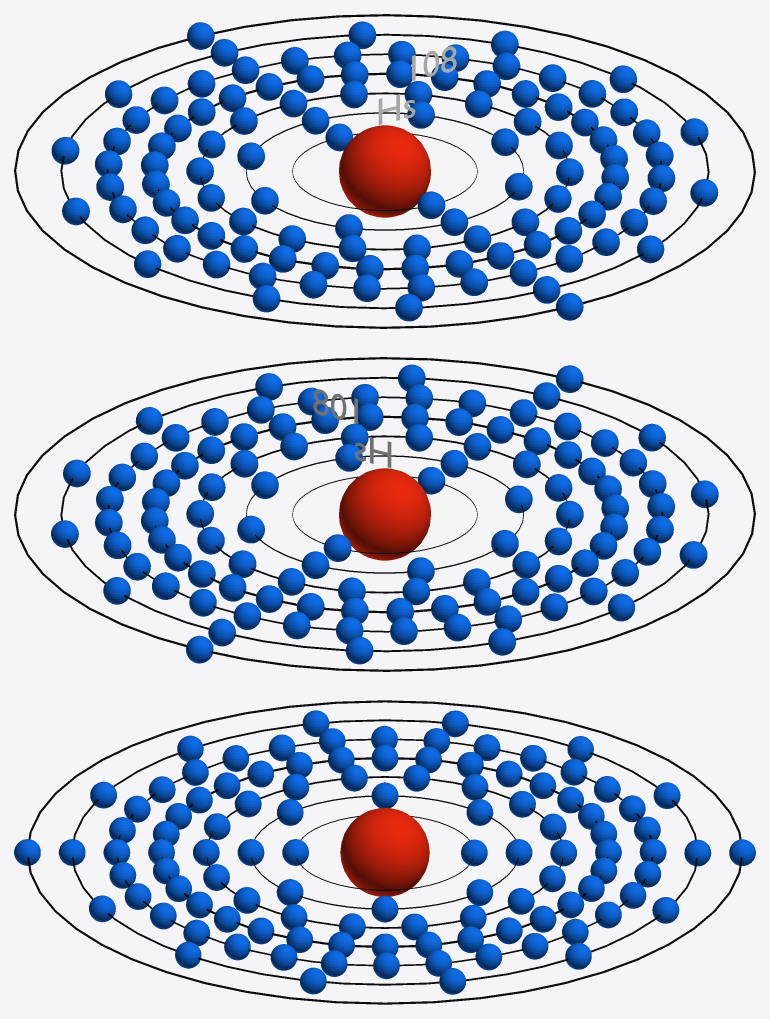
The picture shows the model from 3 angles, top to bottom: view 1: azimuth 30°, elevation 25°; view 2: azimuth 150°, elevation 25°; view 3: azimuth 270°, elevation 25°; orthographic projection. The views are drawn at different scales.
Visible parts, largest first — view 1: Hs5, Hs4, Hs3, Hs6, Proton, Hs2, n7, n6, Hs7, n5, Hs1, n3 (+3 smaller); view 2: Hs5, Hs4, Hs3, Hs6, Proton, Hs2, n7, n6, n5, Hs7, Hs1, n3 (+3 smaller); view 3: Hs5, Hs4, Hs3, Hs6, Proton, Hs2, n7, n6, n5, Hs1, Hs7, n3 (+2 smaller).
Part boxes in pixels (x1,y1,x2,y2): Hs5: [95, 41, 675, 301]; Hs4: [141, 60, 628, 280]; Hs3: [186, 80, 583, 261]; Hs6: [51, 21, 718, 321]; Proton: [339, 125, 430, 217]; Hs2: [237, 101, 532, 239]; n7: [14, 14, 755, 328]; n6: [60, 33, 709, 309]; Hs7: [187, 22, 583, 320]; n5: [106, 53, 661, 289]; Hs1: [325, 123, 445, 218]; n3: [200, 92, 569, 250]; Hs5: [95, 384, 674, 644]; Hs4: [141, 403, 628, 623]; Hs3: [186, 423, 583, 605]; Hs6: [51, 364, 718, 664]; Proton: [339, 468, 430, 560]; Hs2: [237, 444, 532, 582]; n7: [14, 357, 755, 671]; n6: [60, 376, 709, 652]; n5: [107, 396, 663, 632]; Hs7: [186, 365, 583, 663]; Hs1: [323, 467, 445, 561]; n3: [200, 435, 569, 593]; Hs5: [103, 725, 666, 979]; Hs4: [148, 744, 621, 957]; Hs3: [193, 764, 576, 940]; Hs6: [58, 710, 711, 994]; Proton: [340, 808, 429, 896]; Hs2: [237, 782, 532, 922]; n7: [27, 700, 742, 1004]; n6: [72, 719, 697, 985]; n5: [117, 738, 652, 966]; Hs1: [282, 839, 487, 866]; Hs7: [14, 839, 755, 865]; n3: [206, 776, 563, 928].
Bounding box in the file's own units: 802 × 180 × 830.
